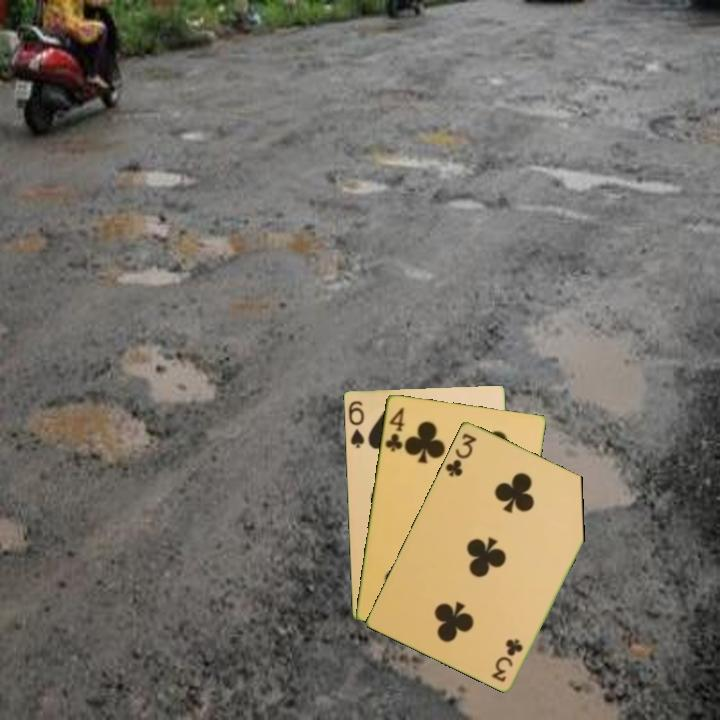3c: (442, 429, 479, 479), (489, 635, 525, 685)
4c: (381, 403, 407, 454)
6s: (345, 397, 367, 450)
